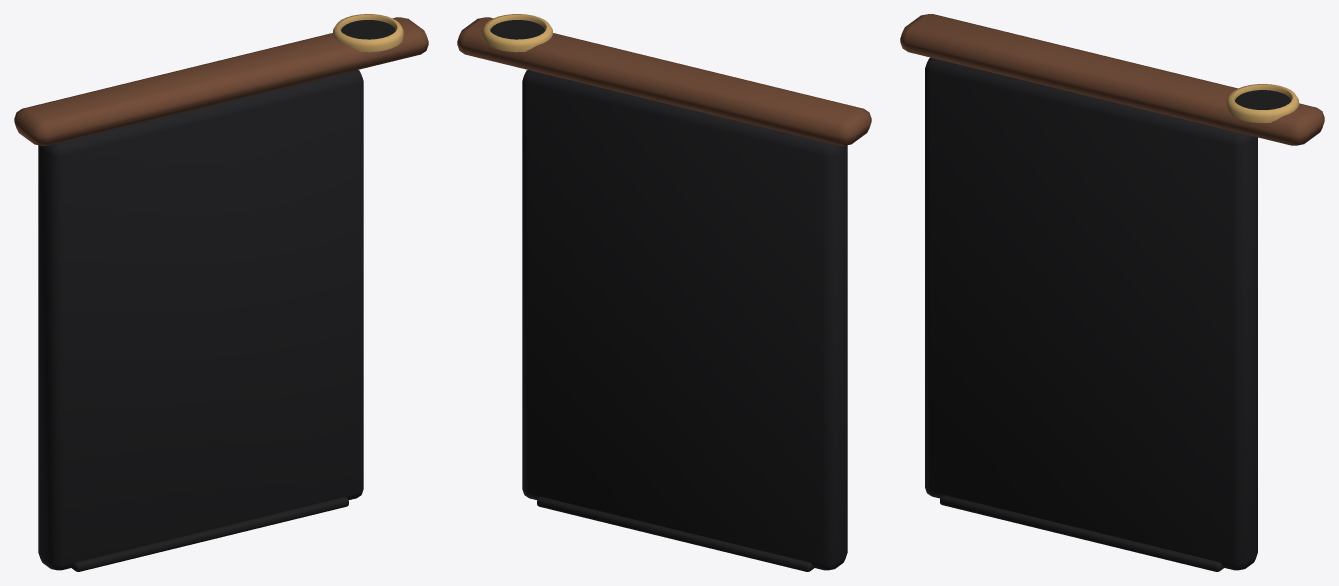
Rendered from arm_classic.glb.
3 renders of one model, left to right at view 1: azimuth 30°, elevation 25°; view 2: azimuth 150°, elevation 25°; view 3: azimuth 330°, elevation 25°, orthographic. The views are drawn at different scales.
Parts seen in each view (by area): view 1: Standard_LOD0, Arm_LOD0, Foot_LOD0, CupRing_LOD0, CupWell_LOD0; view 2: Standard_LOD0, Arm_LOD0, Foot_LOD0, CupRing_LOD0, CupWell_LOD0; view 3: Standard_LOD0, Arm_LOD0, Foot_LOD0, CupRing_LOD0, CupWell_LOD0.
Part boxes in pixels (<box>): Standard_LOD0: <box>38,70,363,570</box>; Arm_LOD0: <box>14,17,428,145</box>; Foot_LOD0: <box>72,497,348,571</box>; CupRing_LOD0: <box>333,14,403,52</box>; CupWell_LOD0: <box>341,20,395,39</box>; Standard_LOD0: <box>522,70,847,570</box>; Arm_LOD0: <box>457,17,871,145</box>; Foot_LOD0: <box>537,497,813,571</box>; CupRing_LOD0: <box>482,14,552,52</box>; CupWell_LOD0: <box>490,20,544,39</box>; Standard_LOD0: <box>925,57,1257,570</box>; Arm_LOD0: <box>900,14,1324,145</box>; Foot_LOD0: <box>940,495,1223,571</box>; CupRing_LOD0: <box>1226,84,1299,122</box>; CupWell_LOD0: <box>1235,90,1290,109</box>.
Size of what is drawn, in the model's own units: 0.58 by 0.648 by 0.09.
